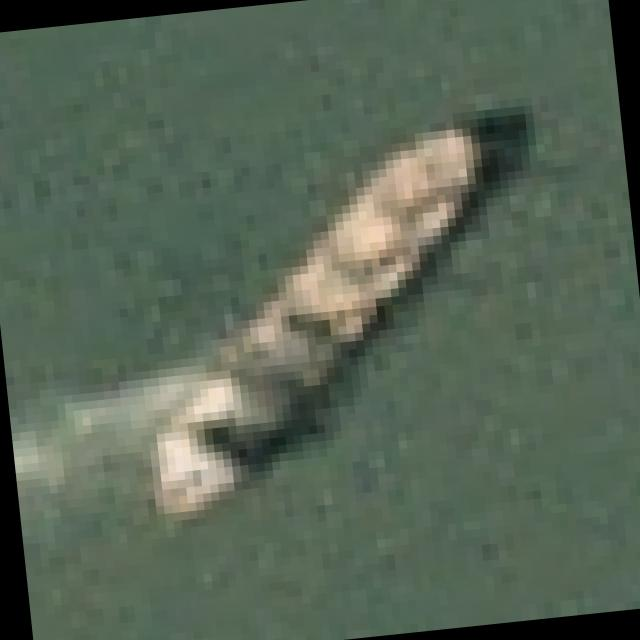ship: (64, 70, 597, 574)
